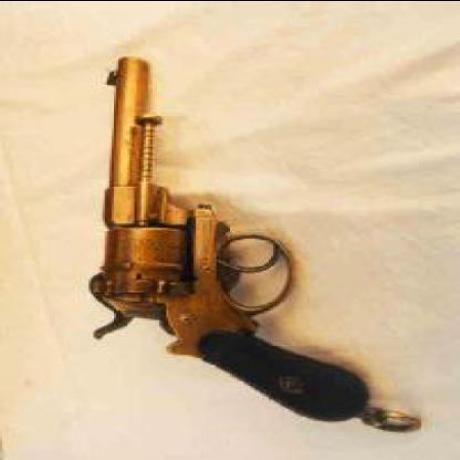weapon: (89, 55, 375, 421)
